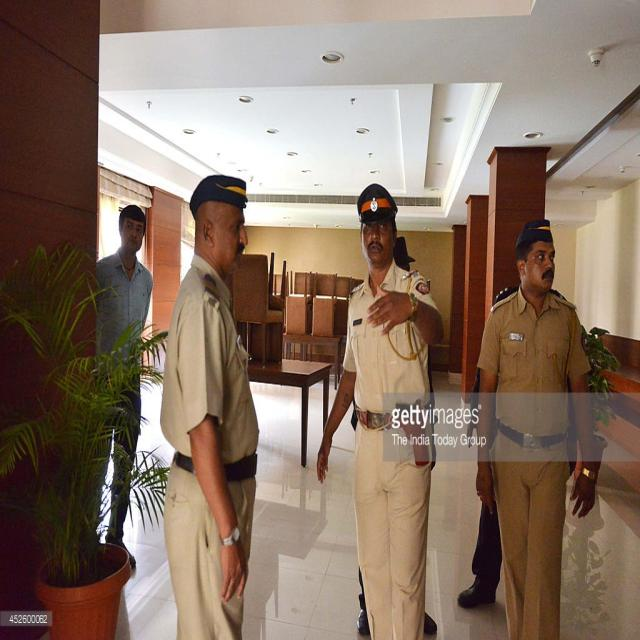body: (314, 180, 448, 639), (472, 217, 602, 639), (157, 171, 262, 639), (456, 280, 578, 612), (348, 233, 440, 639), (97, 202, 155, 569)
